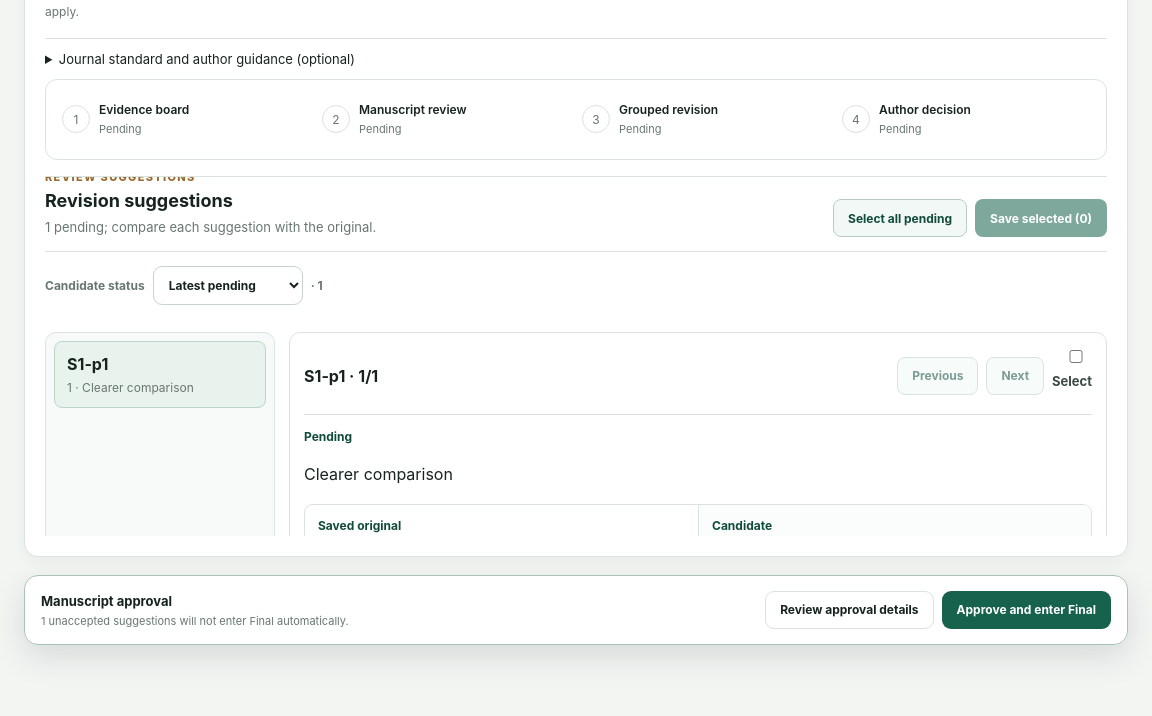
Test: groups batch actions and suggestions without duplicating the full manuscript
This screenshot has width=1152, height=716.
(page scrolled)
expect the element "Revision suggestions" is shown: met, box x1=45 y1=176 x2=1107 y2=536
Click the checkbox labelled "Select": [1076, 357] box x1=1056 y1=350 x2=1096 y2=363
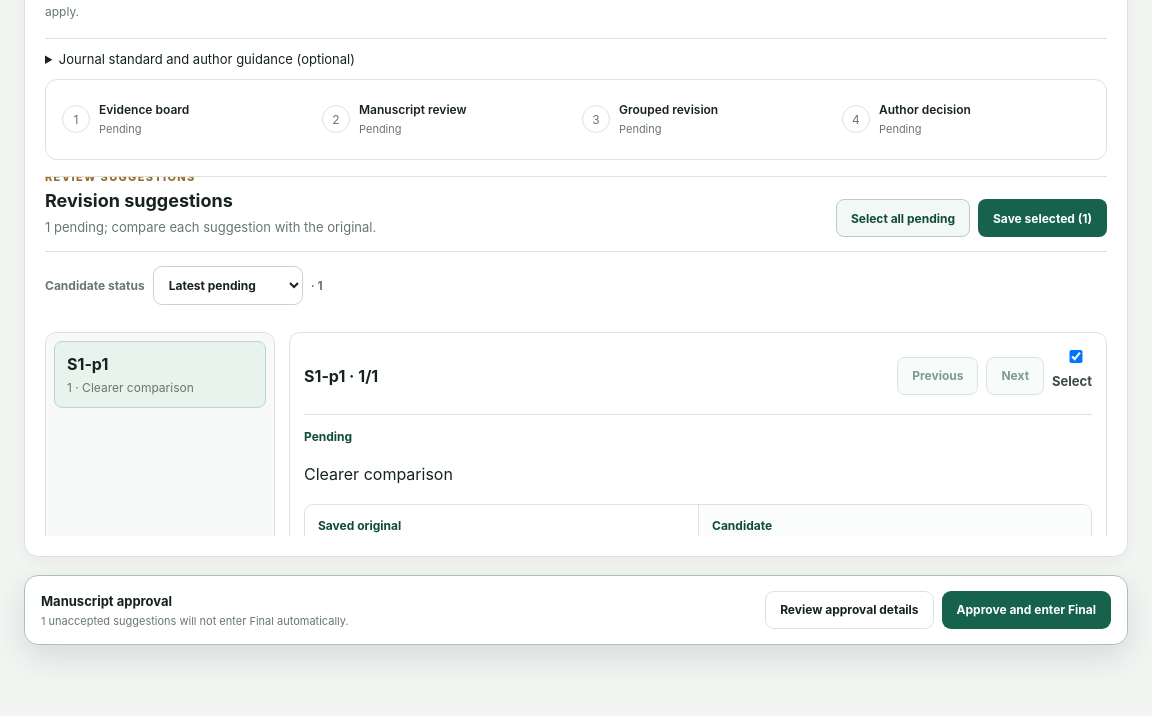
expect the button "Save selected (1)" is enabled: met, box x1=978 y1=199 x2=1107 y2=237
